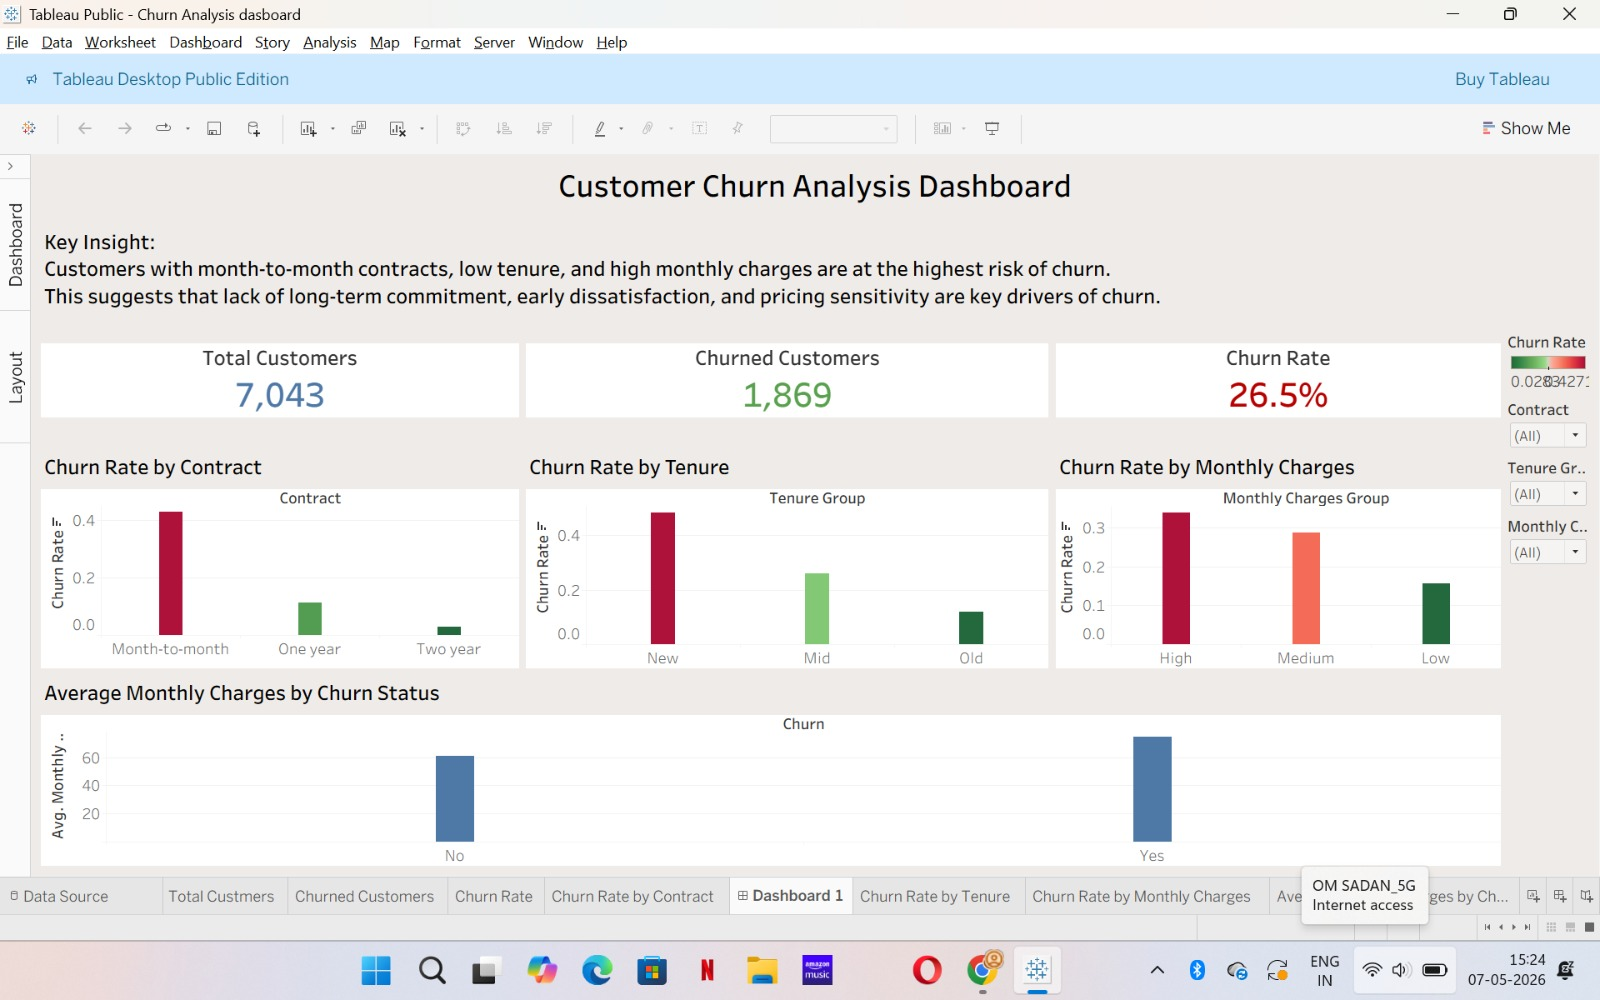

The page's visual inventory and layout, read from the dashboard file:
{"tool":"tableau","page":{"name":"Dashboard 1","canvas":[1000,1000],"units":"permille","ordinal":0},"visuals":[{"type":"title","box":[6,14.5,988.1,74.3]},{"type":"text","box":[6,88.8,988.1,161.2]},{"type":"worksheet","title":"Total Custmers","mark":"Automatic","box":[6,250,300.8,160.1]},{"type":"worksheet","title":"Churned Customers","mark":"Automatic","box":[306.8,250,328,160.1]},{"type":"worksheet","title":"Churn Rate","mark":"Automatic","box":[634.8,250,280.2,160.1]},{"type":"legend","title":"Churn Rate by Contract","param":"[federated.0uj8pjz16dset510yx48y1nnns4d].[usr:Calculation_62206036903591936:qk]","box":[914.9,250,79.1,117.8]},{"type":"filter","title":"Churn Rate by Contract","param":"[federated.0uj8pjz16dset510yx48y1nnns4d].[none:Contract:nk]","box":[914.9,367.8,79.1,94.2]},{"type":"worksheet","title":"Churn Rate by Contract","mark":"Bar","rows":["Calculation_62206036903591936"],"cols":["Contract"],"box":[6,410.1,300.8,307.3]},{"type":"worksheet","title":"Churn Rate by Tenure","mark":"Bar","rows":["Calculation_62206036903591936"],"cols":["Calculation_62206036906549249"],"box":[306.8,410.1,328,307.3]},{"type":"worksheet","title":"Churn Rate by Monthly Charges","mark":"Automatic","rows":["Calculation_62206036903591936"],"cols":["Calculation_62206036907315202"],"box":[634.8,410.1,280.2,307.3]},{"type":"filter","title":"Churn Rate by Tenure","param":"[federated.0uj8pjz16dset510yx48y1nnns4d].[none:Calculation_62206036906549249:nk]","box":[914.9,461.9,79.1,94.2]},{"type":"filter","title":"Churn Rate by Monthly Charges","param":"[federated.0uj8pjz16dset510yx48y1nnns4d].[none:Calculation_62206036907315202:nk]","box":[914.9,556.1,79.1,94.2]},{"type":"worksheet","title":"Average Monthly Charges by Churn Status","mark":"Bar","rows":["MonthlyCharges"],"cols":["Churn"],"box":[6,717.4,909,268.1]}]}

Visuals, with their boxes on the dashboard's canvas, which has no fixed pixel size, in thousandths of its width and height (x1, y1, x2, y2). These are canvas units, not pixel positions in the 1600x1000 screenshot, which may show the page scaled, cropped or inside an application window:
title: (6,14,994,89)
text: (6,89,994,250)
"Total Custmers" worksheet: (6,250,307,410)
"Churned Customers" worksheet: (307,250,635,410)
"Churn Rate" worksheet: (635,250,915,410)
"Churn Rate by Contract" legend: (915,250,994,368)
"Churn Rate by Contract" filter: (915,368,994,462)
"Churn Rate by Contract" worksheet (Bar marks): (6,410,307,717)
"Churn Rate by Tenure" worksheet (Bar marks): (307,410,635,717)
"Churn Rate by Monthly Charges" worksheet: (635,410,915,717)
"Churn Rate by Tenure" filter: (915,462,994,556)
"Churn Rate by Monthly Charges" filter: (915,556,994,650)
"Average Monthly Charges by Churn Status" worksheet (Bar marks): (6,717,915,986)
